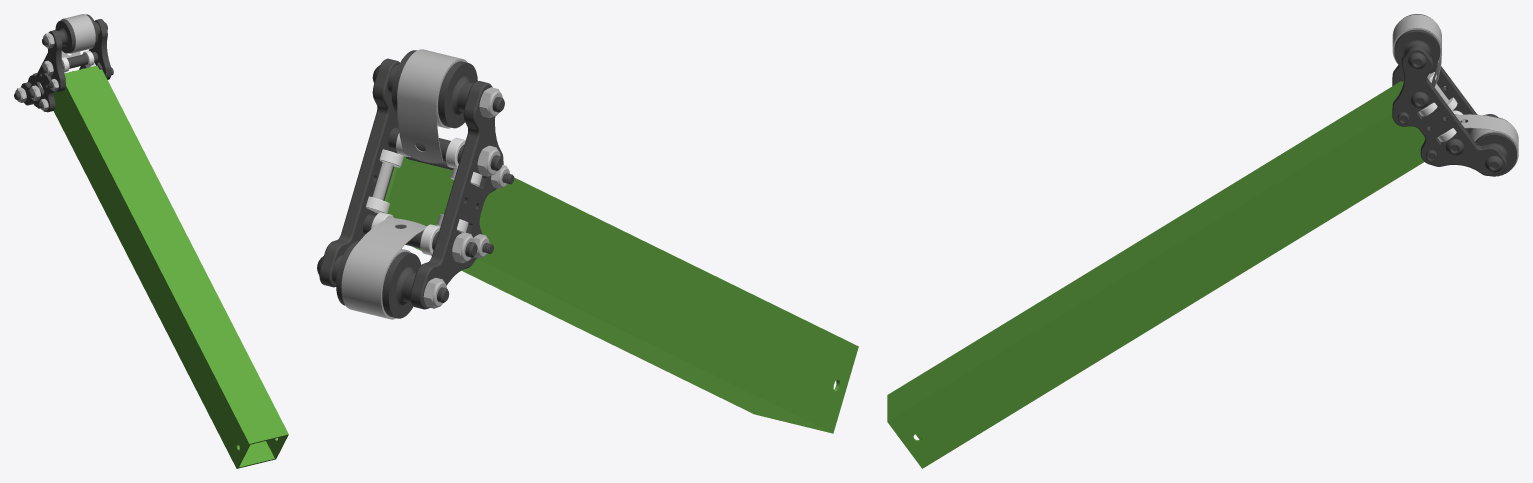
3 views of the same model, side by side, from view 1: azimuth 30°, elevation 25°; view 2: azimuth 150°, elevation 25°; view 3: azimuth 270°, elevation 25° (orthographic). The views are drawn at different scales.
Parts seen in each view (by area): view 1: Tube 1.5"x1.5"x15", TTB-TUBE-008 (×2), TTB-TUBE-003, TTB-TUBE-010; view 2: Tube 1.5"x1.5"x15", TTB-TUBE-008 (×2), TTB-TUBE-003 (×2), TTB-TUBE-010 (×2); view 3: Tube 1.5"x1.5"x15", TTB-TUBE-008 (×2), TTB-TUBE-003 (×2), TTB-TUBE-010 (×2).
Boxes of the visible parts, left/top/right/bottom form: Tube 1.5"x1.5"x15": left=53, top=65, right=288, bottom=468; TTB-TUBE-008 (×2): left=21, top=19, right=111, bottom=112; TTB-TUBE-003: left=60, top=14, right=95, bottom=58; TTB-TUBE-010: left=55, top=20, right=75, bottom=53; Tube 1.5"x1.5"x15": left=384, top=156, right=858, bottom=433; TTB-TUBE-008 (×2): left=319, top=58, right=503, bottom=309; TTB-TUBE-003 (×2): left=341, top=49, right=467, bottom=319; TTB-TUBE-010 (×2): left=382, top=61, right=477, bottom=318; Tube 1.5"x1.5"x15": left=887, top=81, right=1437, bottom=468; TTB-TUBE-008 (×2): left=1392, top=45, right=1506, bottom=175; TTB-TUBE-003 (×2): left=1392, top=14, right=1518, bottom=167; TTB-TUBE-010 (×2): left=1394, top=29, right=1516, bottom=176.
Bounding box in the file's own units: 0.0613 × 0.2904 × 0.3827.
